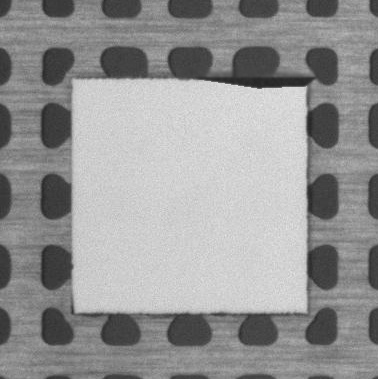DIE_BROKEN: (199, 74, 315, 90)
